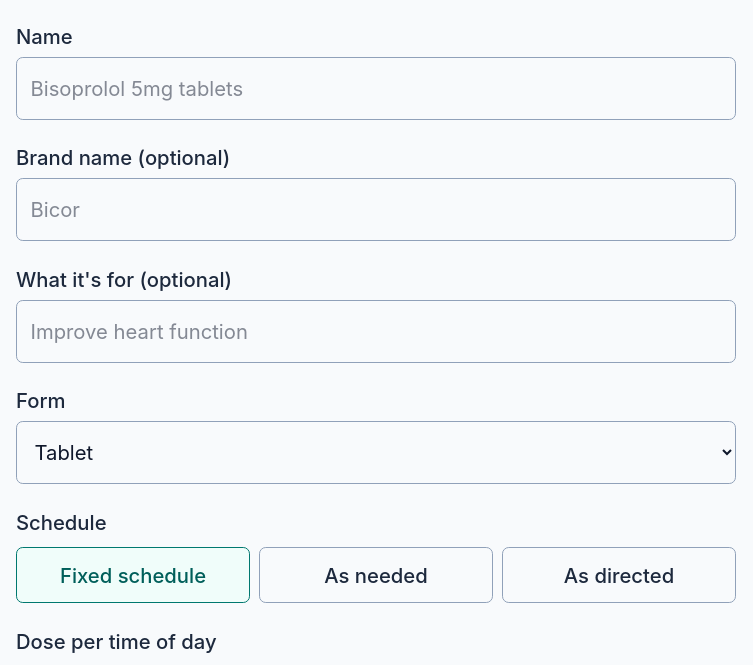
Scenario: MedicationForm: unit field for non-tablet forms › shows the counted field for "other" without ticking "Goes in the pack"
The width and height of the screenshot is (753, 665).
Select "Other" in the dropdown labelled "Form" at (376, 453), box left=16, top=422, right=736, bottom=484
(page scrolled)
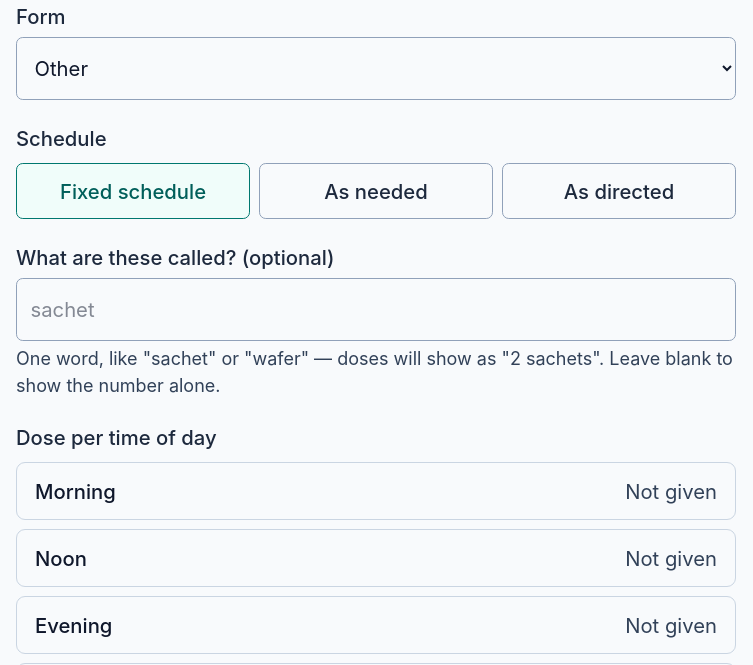
Check: the field labelled "What are these called? (optional)" is shown, box left=16, top=278, right=736, bottom=341
